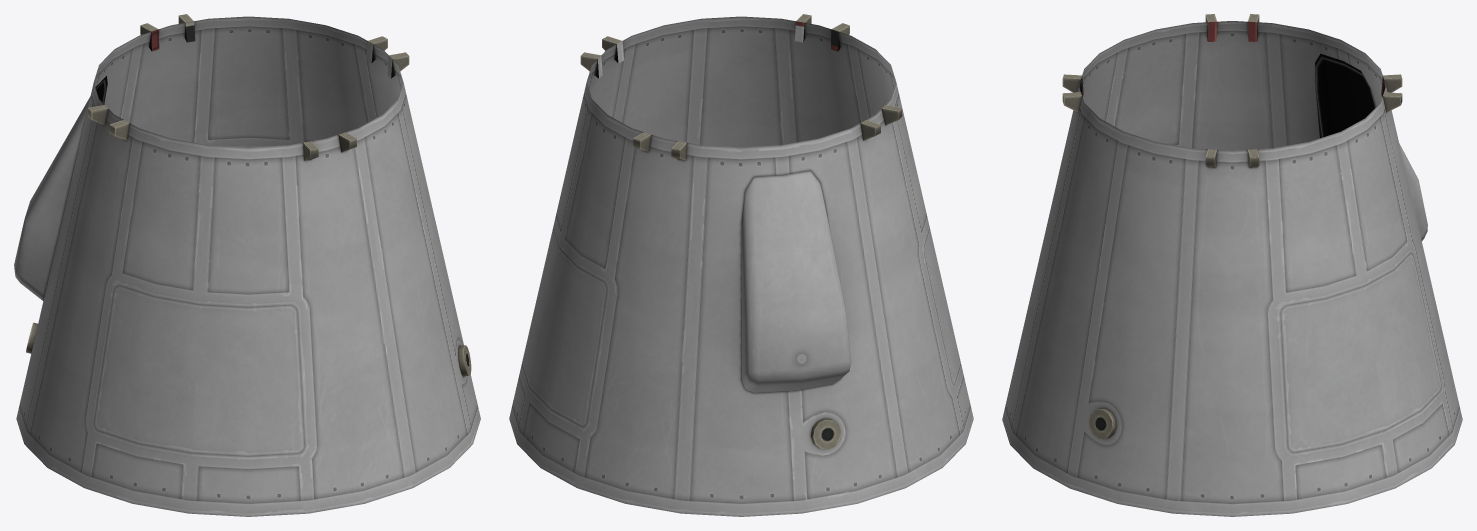
Rendered from adapter_s1p5_s1.obj.
3 views of the same model, side by side, from view 1: azimuth 30°, elevation 25°; view 2: azimuth 150°, elevation 25°; view 3: azimuth 270°, elevation 25° (orthographic).
Visible parts, largest first — view 1: 1; view 2: 1; view 3: 1.
Part boxes in pixels (<box>): 1: <box>14,14,480,516</box>; 1: <box>509,14,973,516</box>; 1: <box>1002,14,1462,516</box>.
Size of the model in its own units: 1.88 by 1.5 by 1.88.
Materials: 1 (1 with a texture image).
